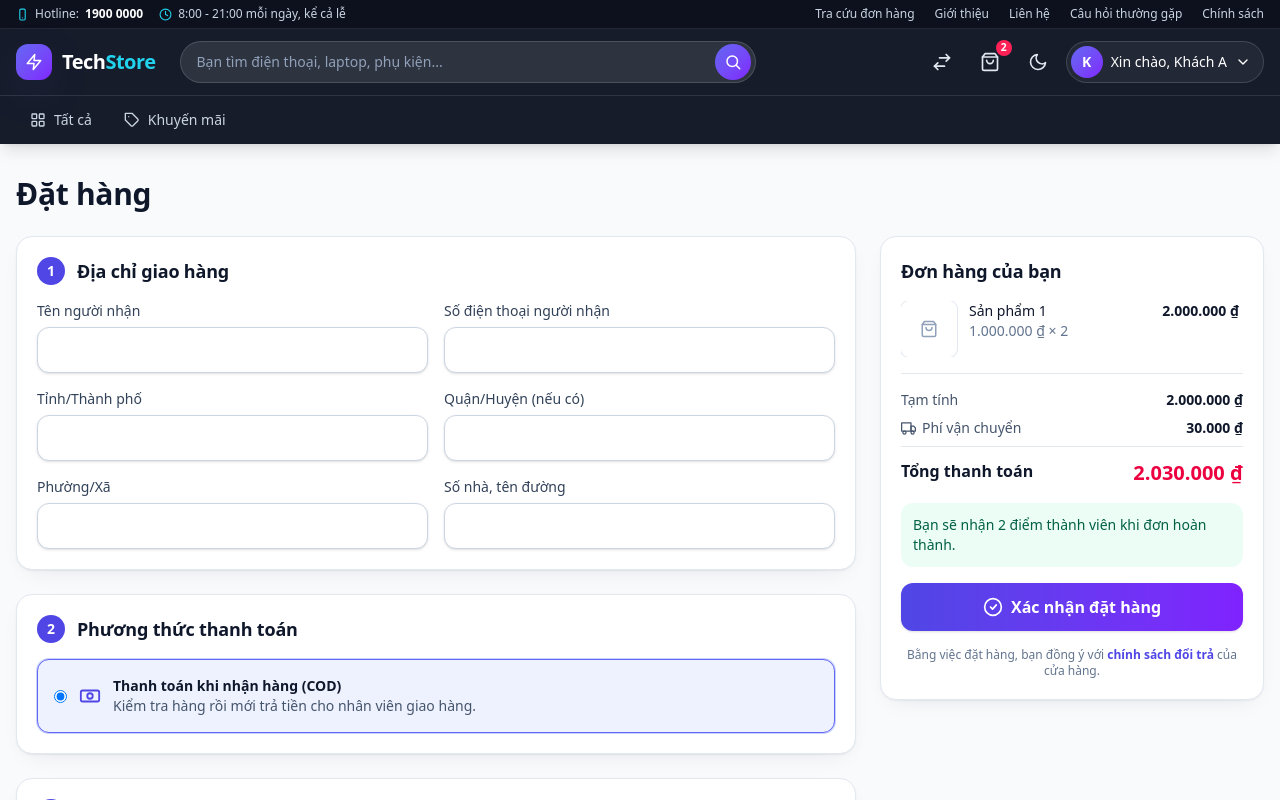
Test case: Trang đặt hàng - địa chỉ giao hàng (AC1) › form để trống: báo lỗi từng ô và không gửi đơn
Expected: the heading "Đặt hàng" is shown, [16, 173, 151, 214]
Step 1. Click the button "Xác nhận đặt hàng" → {"x": 1072, "y": 607}, box [901, 583, 1243, 631]
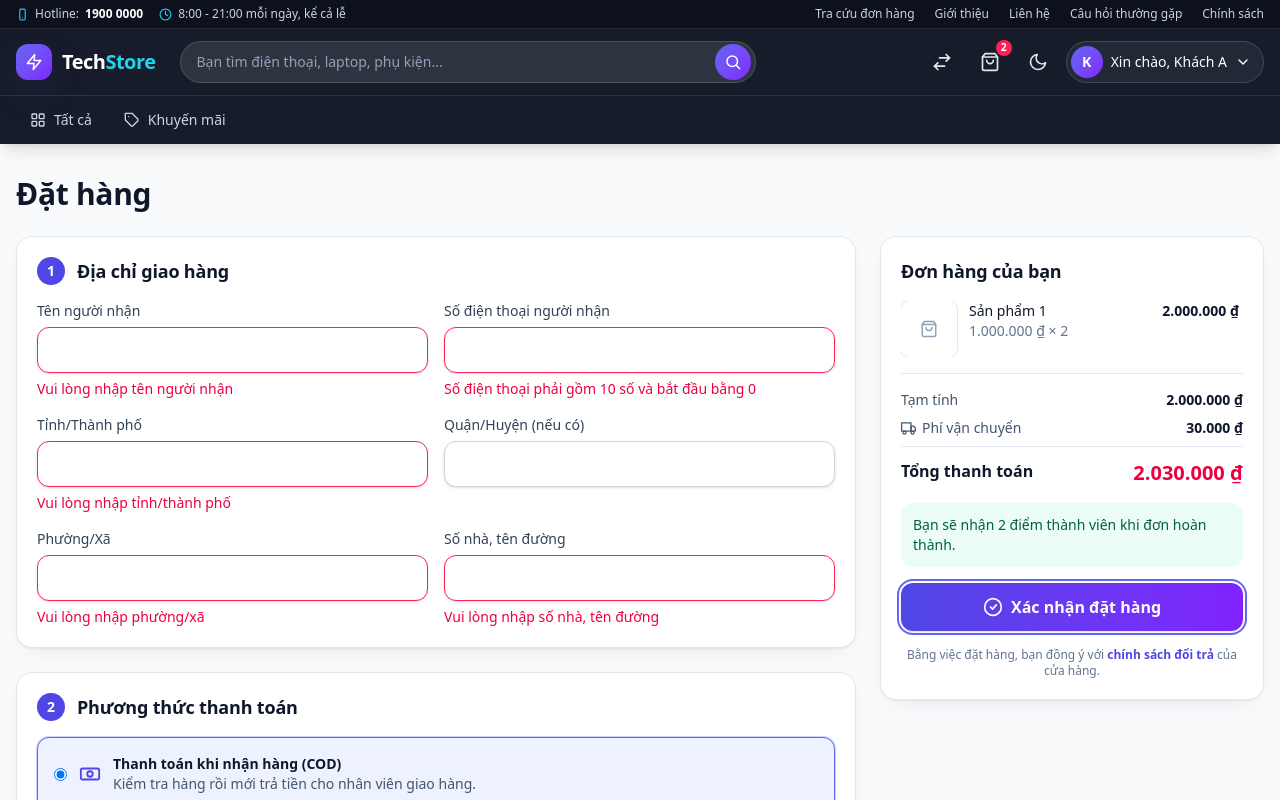
Result: the text "Vui lòng nhập tên người nhận" is shown at [37, 379, 233, 398]
Result: the text "Số điện thoại phải gồm 10 số và bắt đầu bằng 0" is shown at [444, 379, 756, 398]
Result: the text "Vui lòng nhập tỉnh/thành phố" is shown at [37, 493, 231, 512]
